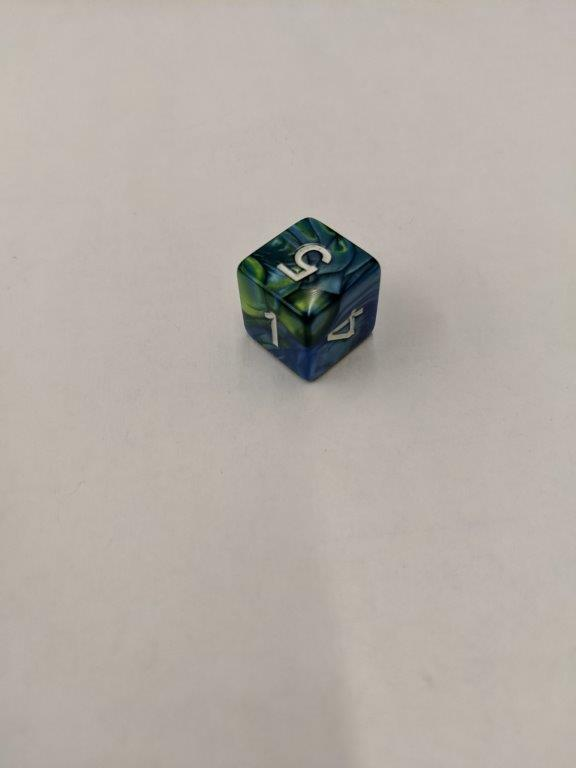d6-5: (237, 214, 384, 383)
